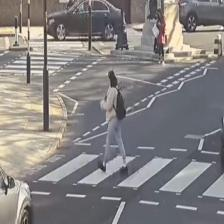person: (97, 70, 128, 173), (156, 8, 165, 65)
